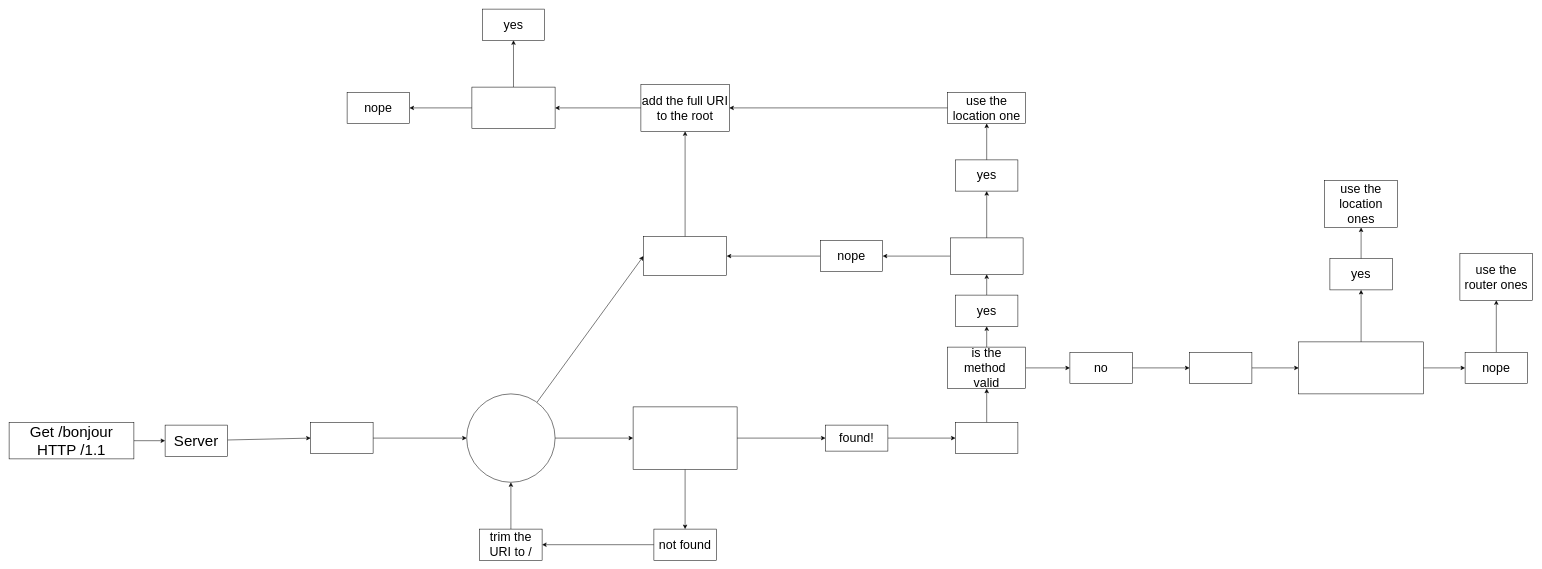
Some shapes in this 1542 by 569 pixel diagram are drawn without their labels. Each missing label, with the centre of its shape:
"does it end with a directory?" belongs at point 513,108.
"does the location has custom error pages?" belongs at point 1361,367.
"GET /bonjour" belongs at point 341,438.
"is there another root" belongs at point 986,255.
"Location /bonjour" belongs at point 986,438.
"return error 403" belongs at point 1220,368.
"Router" belongs at point 510,437.
"search URI in locations" belongs at point 685,437.
"take the Router root" belongs at point 685,256.
